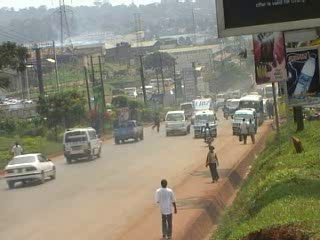Car: (4, 152, 56, 190)
Motorcycle: (203, 127, 213, 145), (222, 110, 229, 120)
